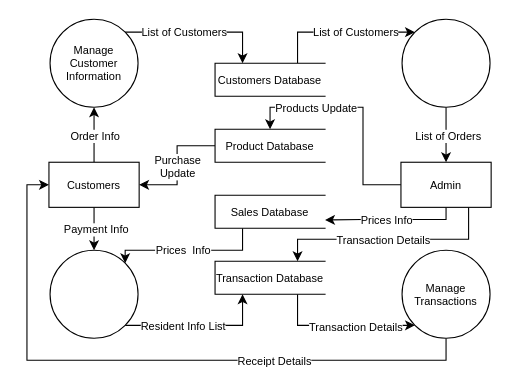
Some shapes in this 510 by 388 pixel diagram are drawn without their labels. The centre of each missing label's shape, as x and y in pixels:
"Manage Payment/ Revenue" goes at [93,293].
"Manage Product Information" goes at [445,62].
